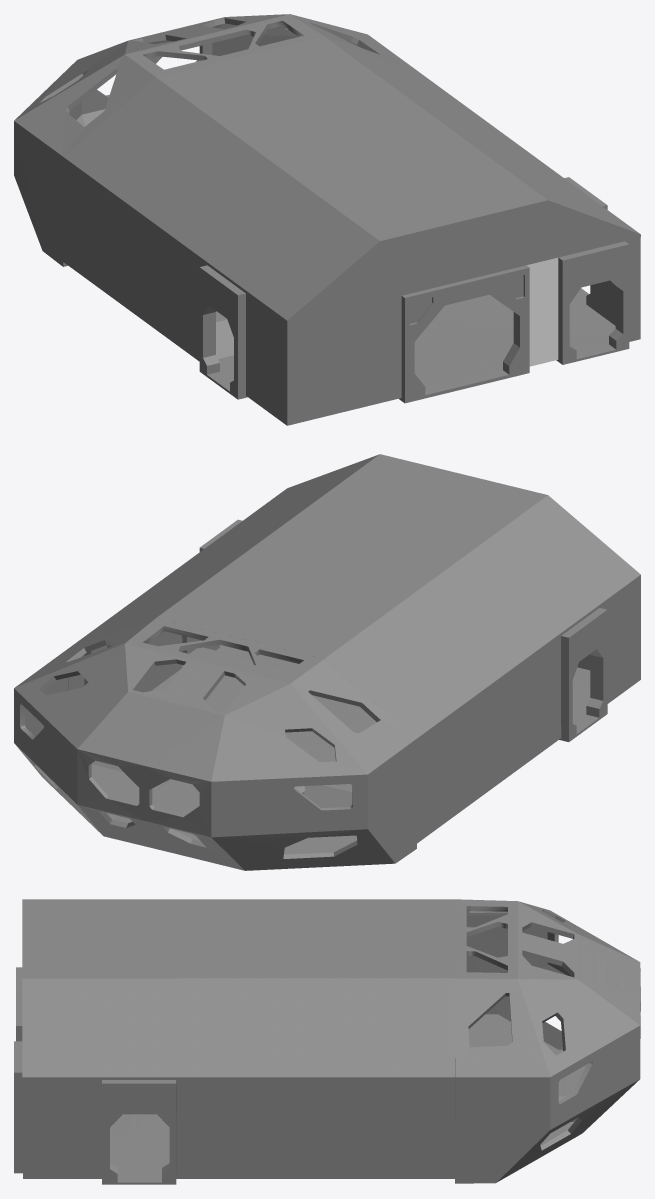
Rendered from Ship_MainRoom.fbx.
3 renders of one model, top to bottom at view 1: azimuth 30°, elevation 25°; view 2: azimuth 150°, elevation 25°; view 3: azimuth 270°, elevation 25°, orthographic. The views are drawn at different scales.
Visible parts, largest first — view 1: MainRoom_Ceilng, MainRoom_BackCeilingCorner, MainRoom_BridgeWindow, MainRoom_Floor, MainRoom_MedbayDoor_001, MainRoom_DoorFrame_Back, MainRoom_DoorFrame_Left, MainRoom_WallShort, MainRoom_CornerPiece; view 2: MainRoom_BridgeWindow, MainRoom_Ceilng, MainRoom_BackCeilingCorner, MainRoom_Floor, MainRoom_DoorFrame_Left, MainRoom_CeilingArches; view 3: MainRoom_Ceilng, MainRoom_BridgeWindow, MainRoom_BackCeilingCorner, MainRoom_CornerPiece, MainRoom_DoorFrame_Right.001, MainRoom_Floor, MainRoom_DoorFrame_Back, MainRoom_MedbayDoor_001.
Boxes of the visible parts, box(x1,y1,x2,y2) form: MainRoom_Ceilng: box(63, 36, 559, 361); MainRoom_BackCeilingCorner: box(207, 141, 640, 425); MainRoom_BridgeWindow: box(14, 14, 416, 266); MainRoom_Floor: box(216, 294, 615, 388); MainRoom_MedbayDoor_001: box(399, 265, 529, 403); MainRoom_DoorFrame_Back: box(556, 241, 629, 364); MainRoom_DoorFrame_Left: box(199, 265, 247, 399); MainRoom_WallShort: box(527, 257, 558, 366); MainRoom_CornerPiece: box(594, 237, 640, 341); MainRoom_BridgeWindow: box(14, 618, 416, 870); MainRoom_Ceilng: box(64, 513, 561, 843); MainRoom_BackCeilingCorner: box(208, 454, 640, 703); MainRoom_Floor: box(91, 645, 590, 840); MainRoom_DoorFrame_Left: box(559, 608, 607, 741); MainRoom_CeilingArches: box(84, 631, 195, 692); MainRoom_Ceilng: box(176, 899, 455, 1178); MainRoom_BridgeWindow: box(455, 899, 640, 1183); MainRoom_BackCeilingCorner: box(22, 899, 176, 1079); MainRoom_CornerPiece: box(23, 1080, 101, 1178); MainRoom_DoorFrame_Right.001: box(102, 1080, 176, 1184); MainRoom_Floor: box(110, 1049, 586, 1176); MainRoom_DoorFrame_Back: box(14, 1041, 22, 1173); MainRoom_MedbayDoor_001: box(16, 967, 22, 1041).
Size of the model in its own units: 1665 by 719 by 2531.
